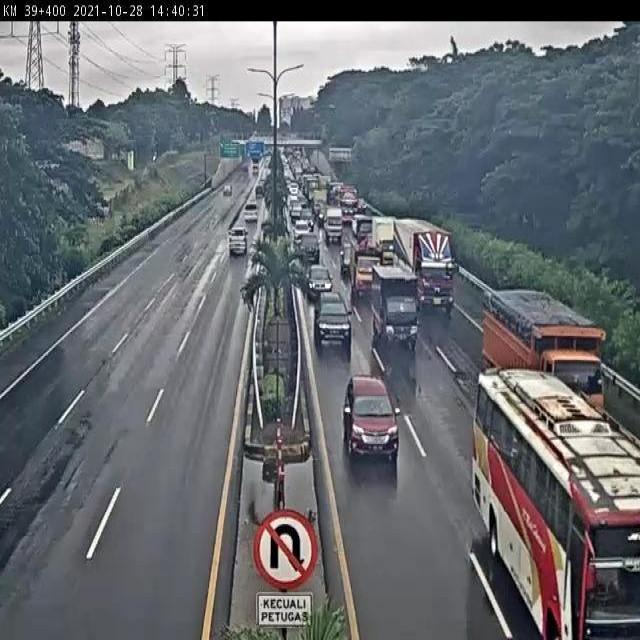bus-l-: (475, 373, 640, 640)
car: (342, 375, 398, 456), (315, 288, 351, 345), (306, 261, 332, 300), (225, 225, 251, 255), (297, 232, 320, 264), (241, 199, 261, 224)
truck-l-: (485, 285, 603, 427), (393, 219, 453, 305)
truck-m-: (371, 261, 420, 347), (349, 247, 381, 300)
